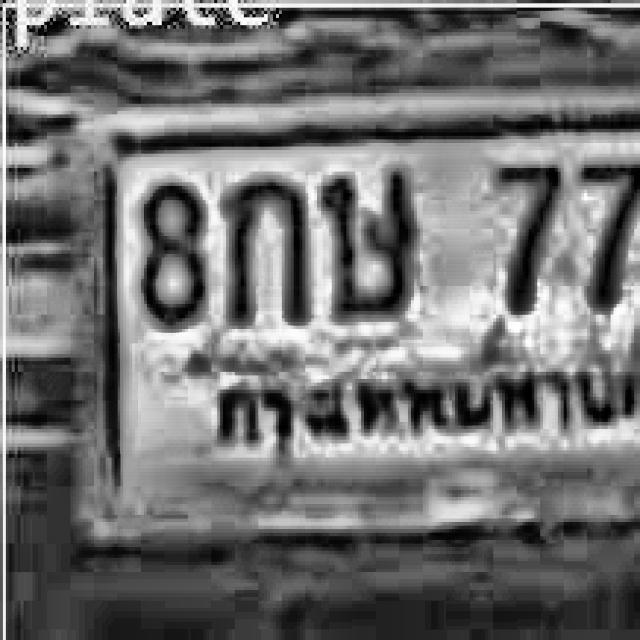license-plate: (74, 91, 640, 532)
